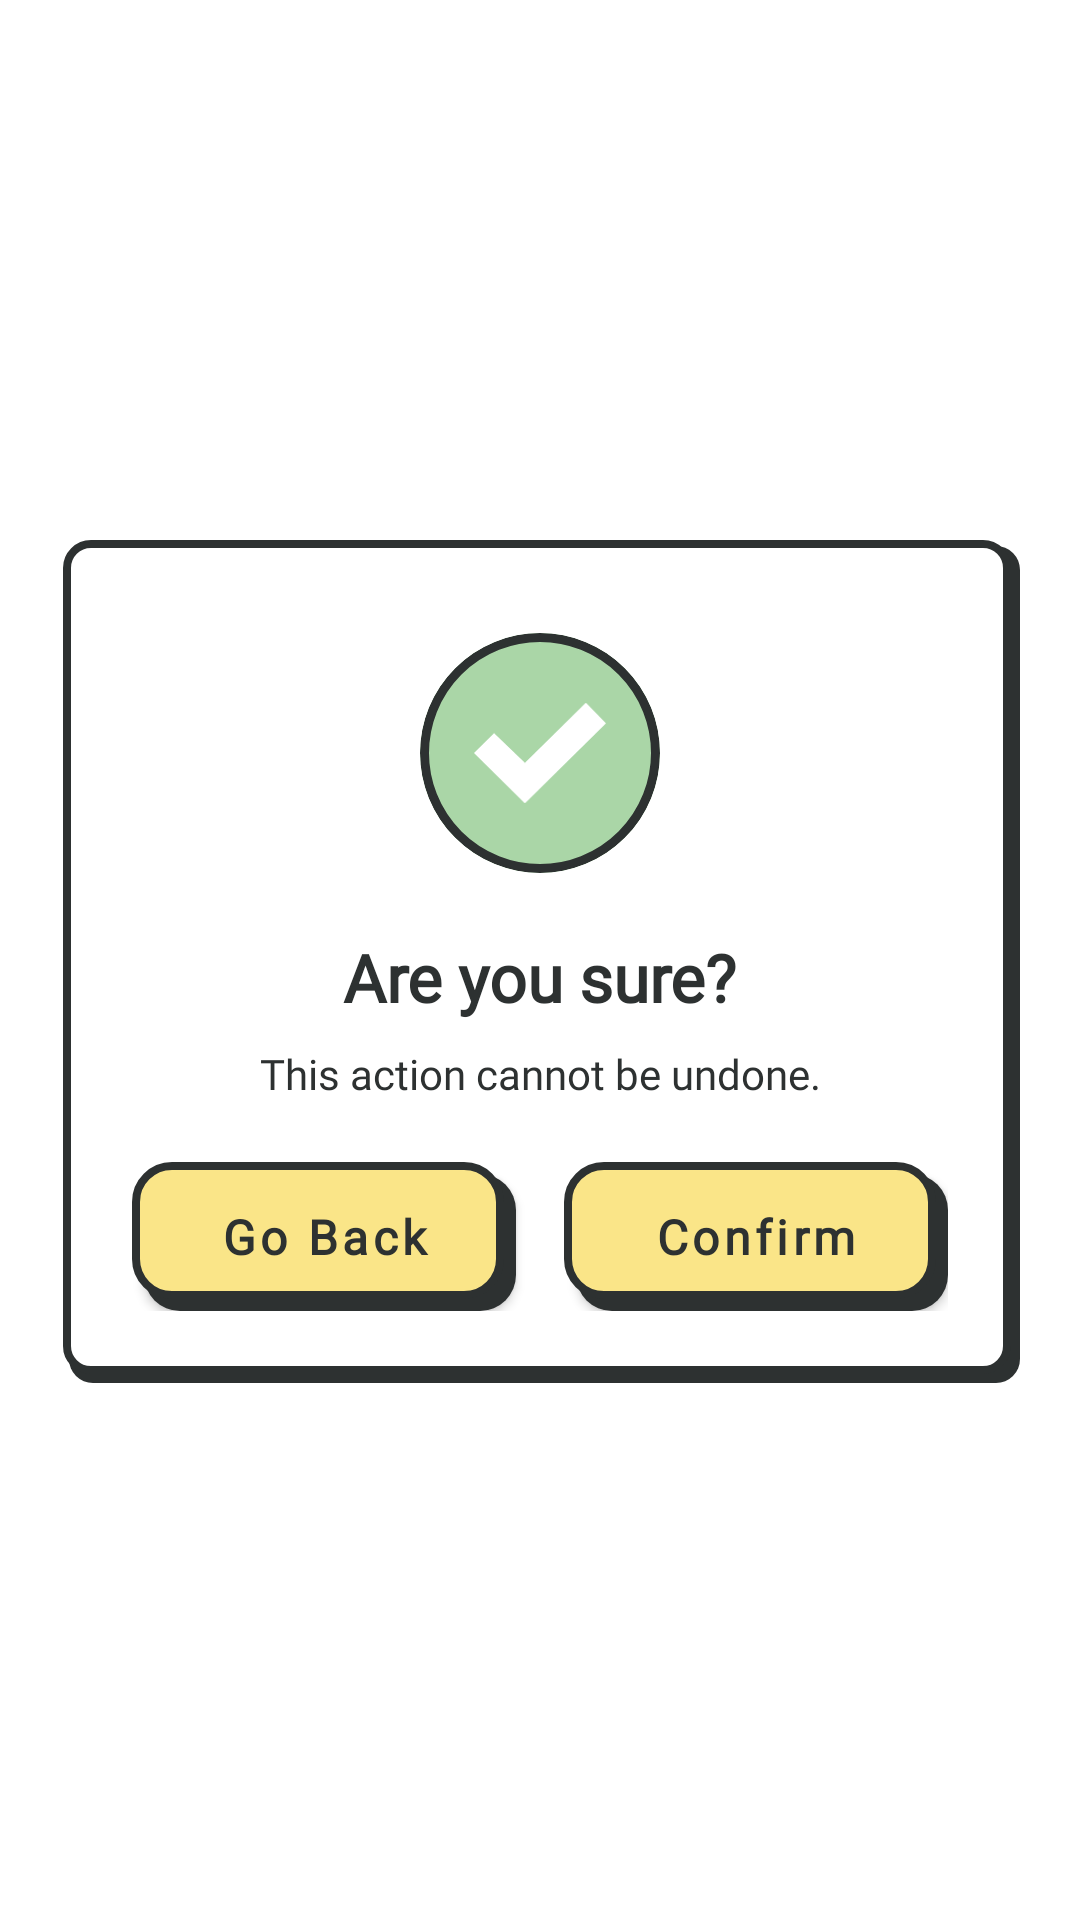

Where to tap for icons on this 1080 × 1920 app screen, as (x,y):
Status Icon: (540,753)
